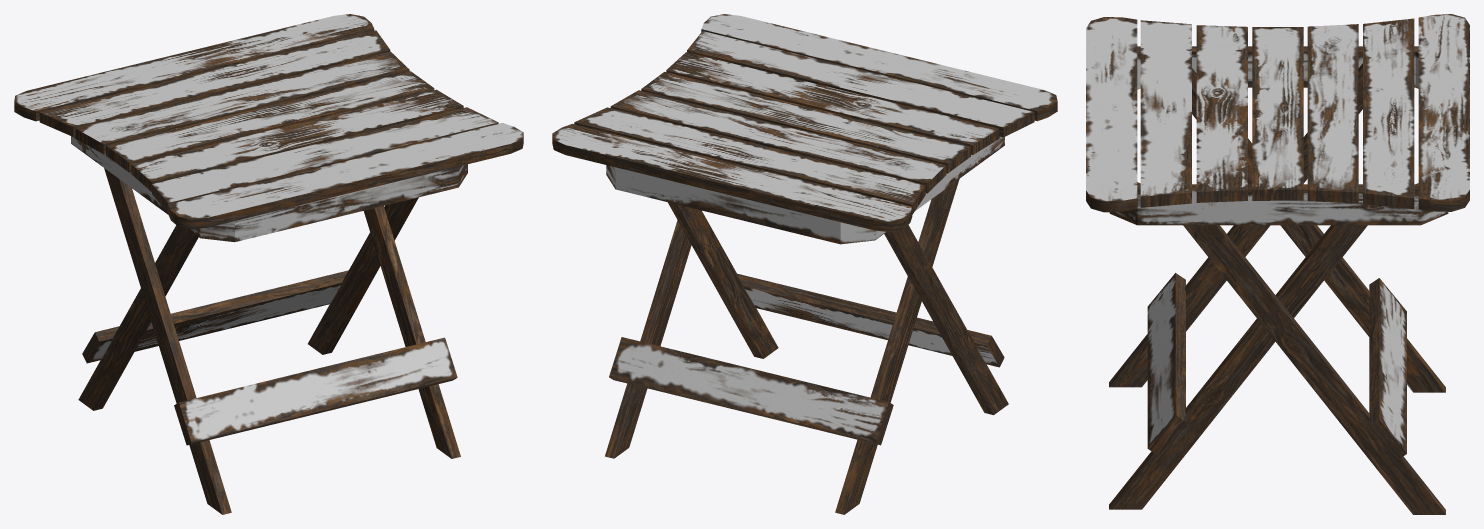
The model's file is wooden_table_painted.glb.
3 renders of one model, left to right at view 1: azimuth 30°, elevation 25°; view 2: azimuth 150°, elevation 25°; view 3: azimuth 270°, elevation 25°, orthographic. The views are drawn at different scales.
Visible parts, largest first — view 1: Object_2; view 2: Object_2; view 3: Object_2.
Boxes of the visible parts, x1,y1,x2,y2 form: Object_2: (14,14,523,514); Object_2: (552,14,1057,514); Object_2: (1086,14,1469,514).
Bounding box in the file's own units: 1.02 × 0.8661 × 0.8846.
Materials: 1 (1 with a texture image).
